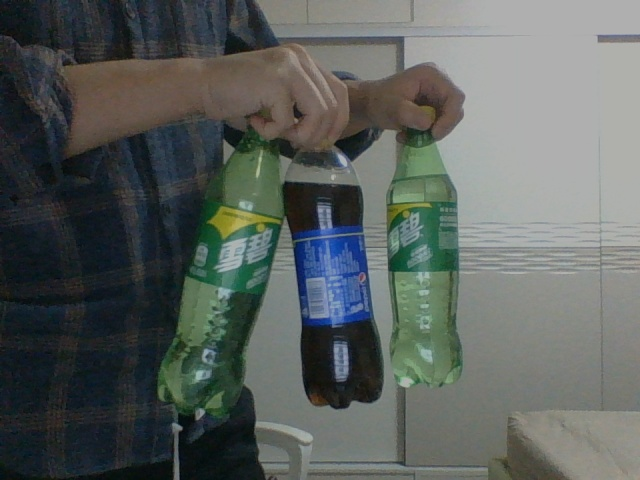Cola: (284, 145, 384, 408)
Sprite: (155, 119, 284, 418), (386, 108, 463, 391)
